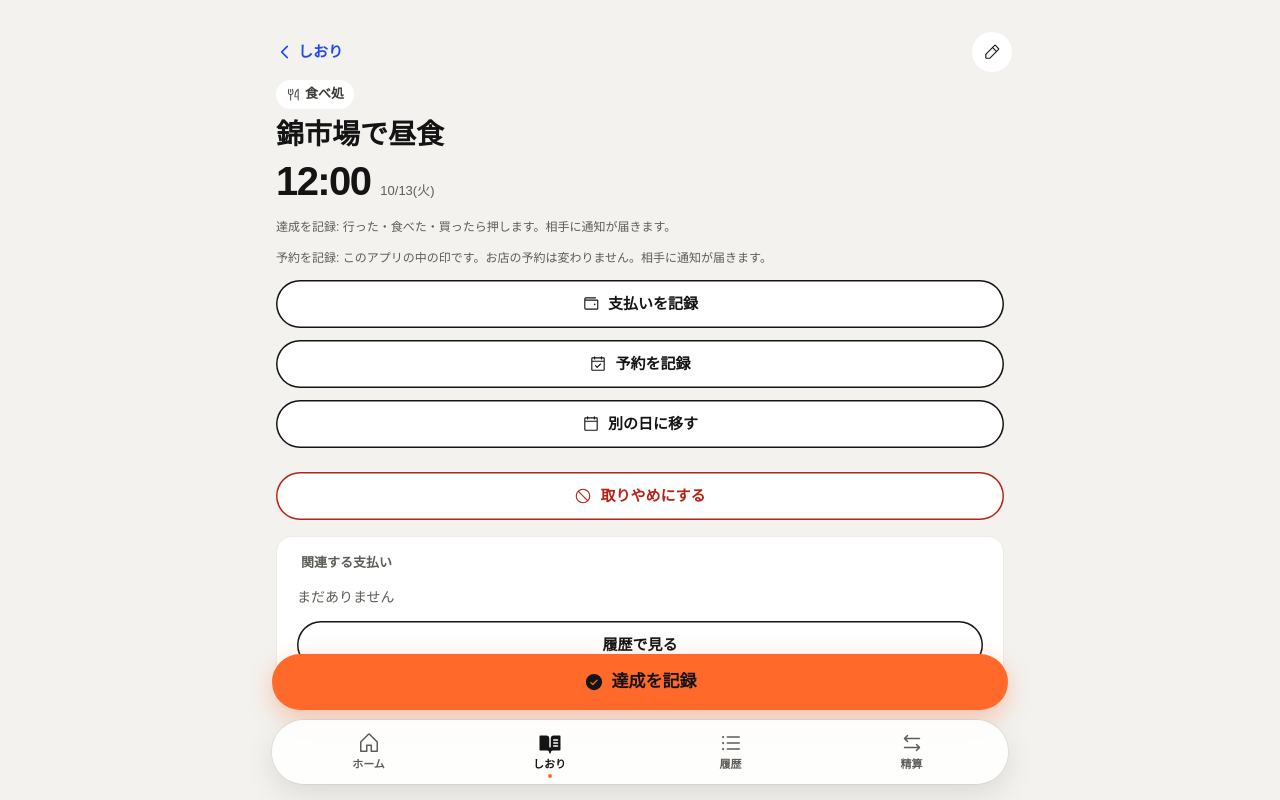
Test: 予定の詳細の達成・予約のボタンと関連する支払い（RW-11・RW-20） › 達成を記録すると保存され、保存中は同じボタンを押せない（RW-11・RW-19）
Click the button "達成を記録": (640,682) [272,654,1008,710]
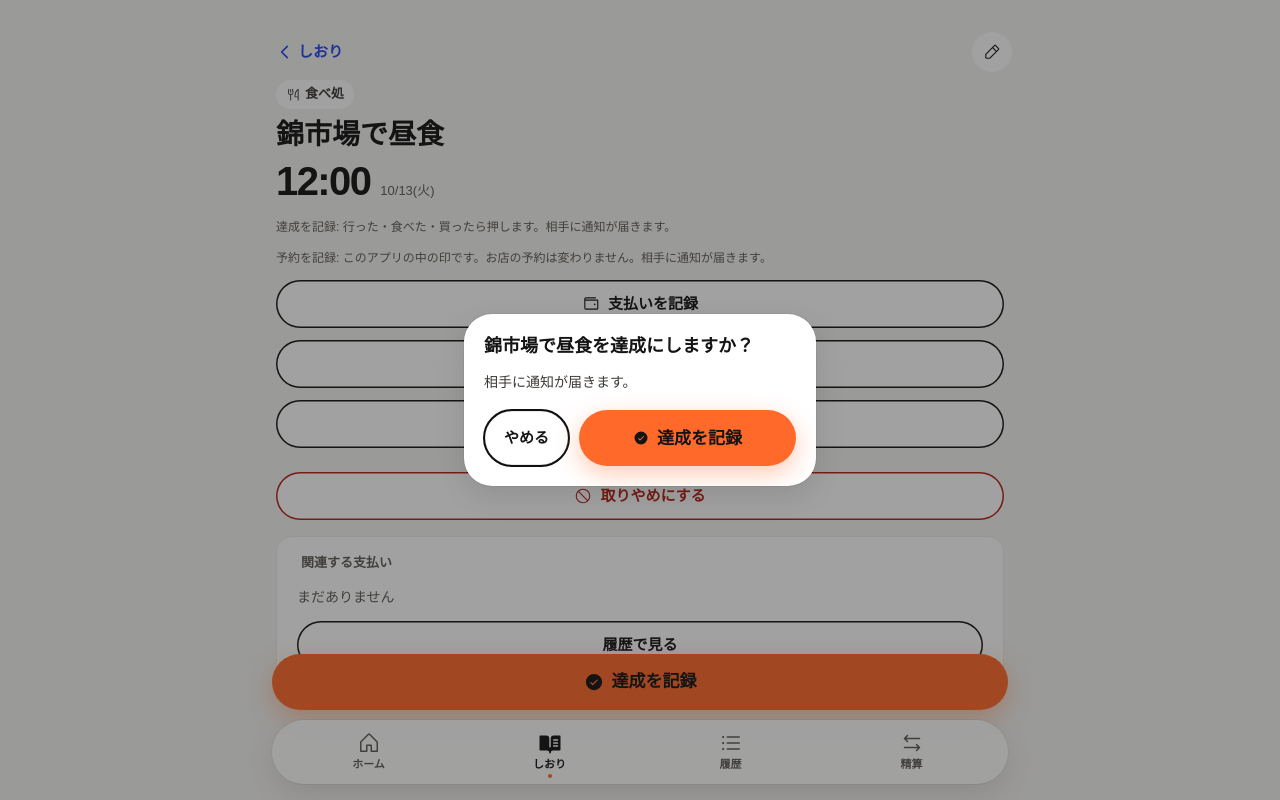
Click the button "達成を記録" below "錦市場で昼食を達成にしますか？": (688,438) [579,410,796,466]
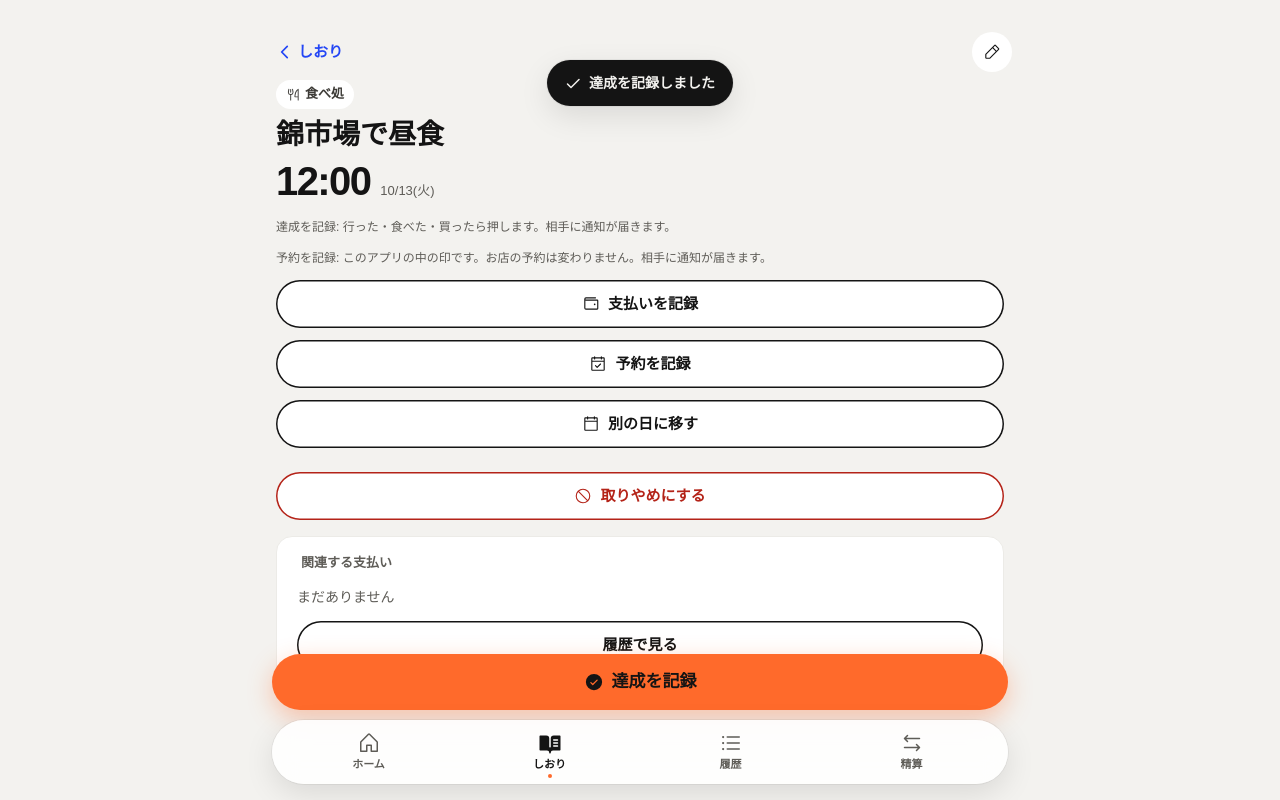
Check: the text "達成を記録しました" is shown, box [547,60,733,106]
